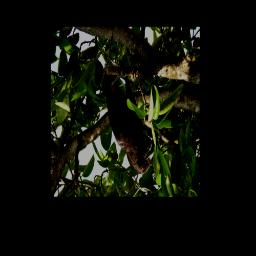Crow: (102, 65, 156, 176)
